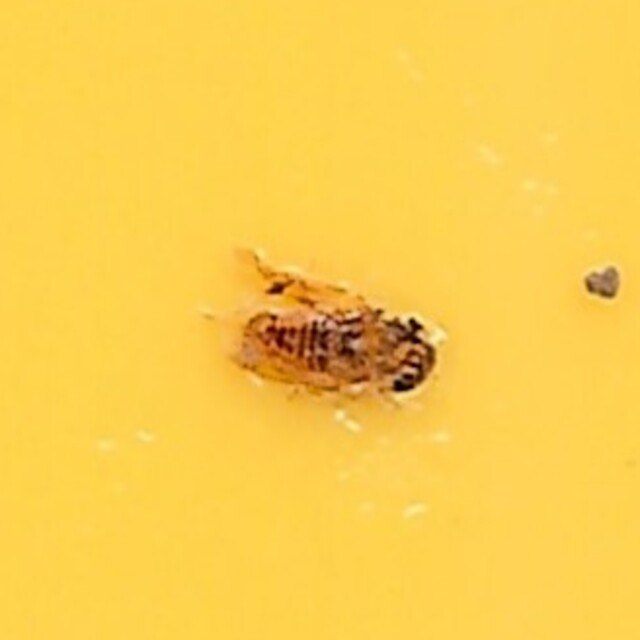Hemiptera: (195, 237, 445, 403)
